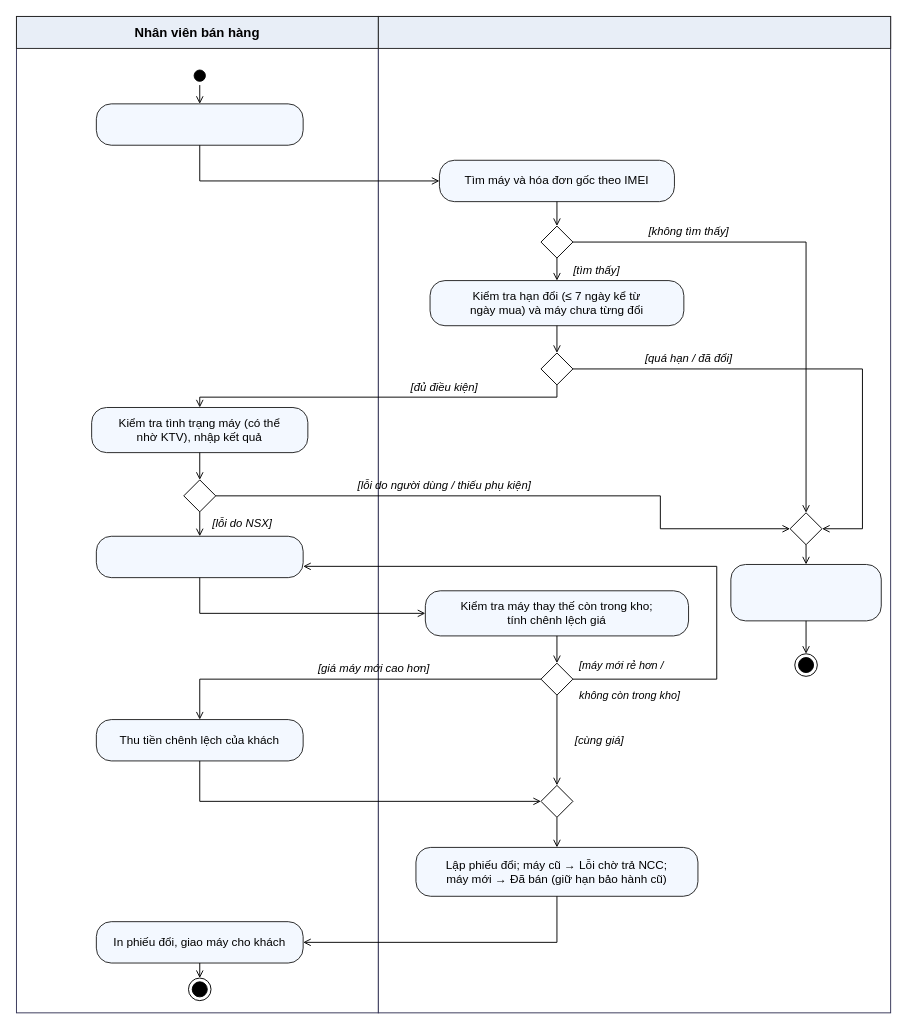
Some shapes in this 907 by 1029 pixel diagram are drawn without their labels. The box of each missing label's shape, as (x1, y1, x2, y2) in pixels:
Chọn máy thay thế (quét IMEI): (95, 535, 303, 578)
Hệ thống: (377, 16, 891, 48)
Nhập IMEI máy khách mang đến: (95, 103, 303, 145)
Thông báo lý do từ chối (quá hạn → gợi ý chuyển bảo hành): (730, 564, 881, 621)
